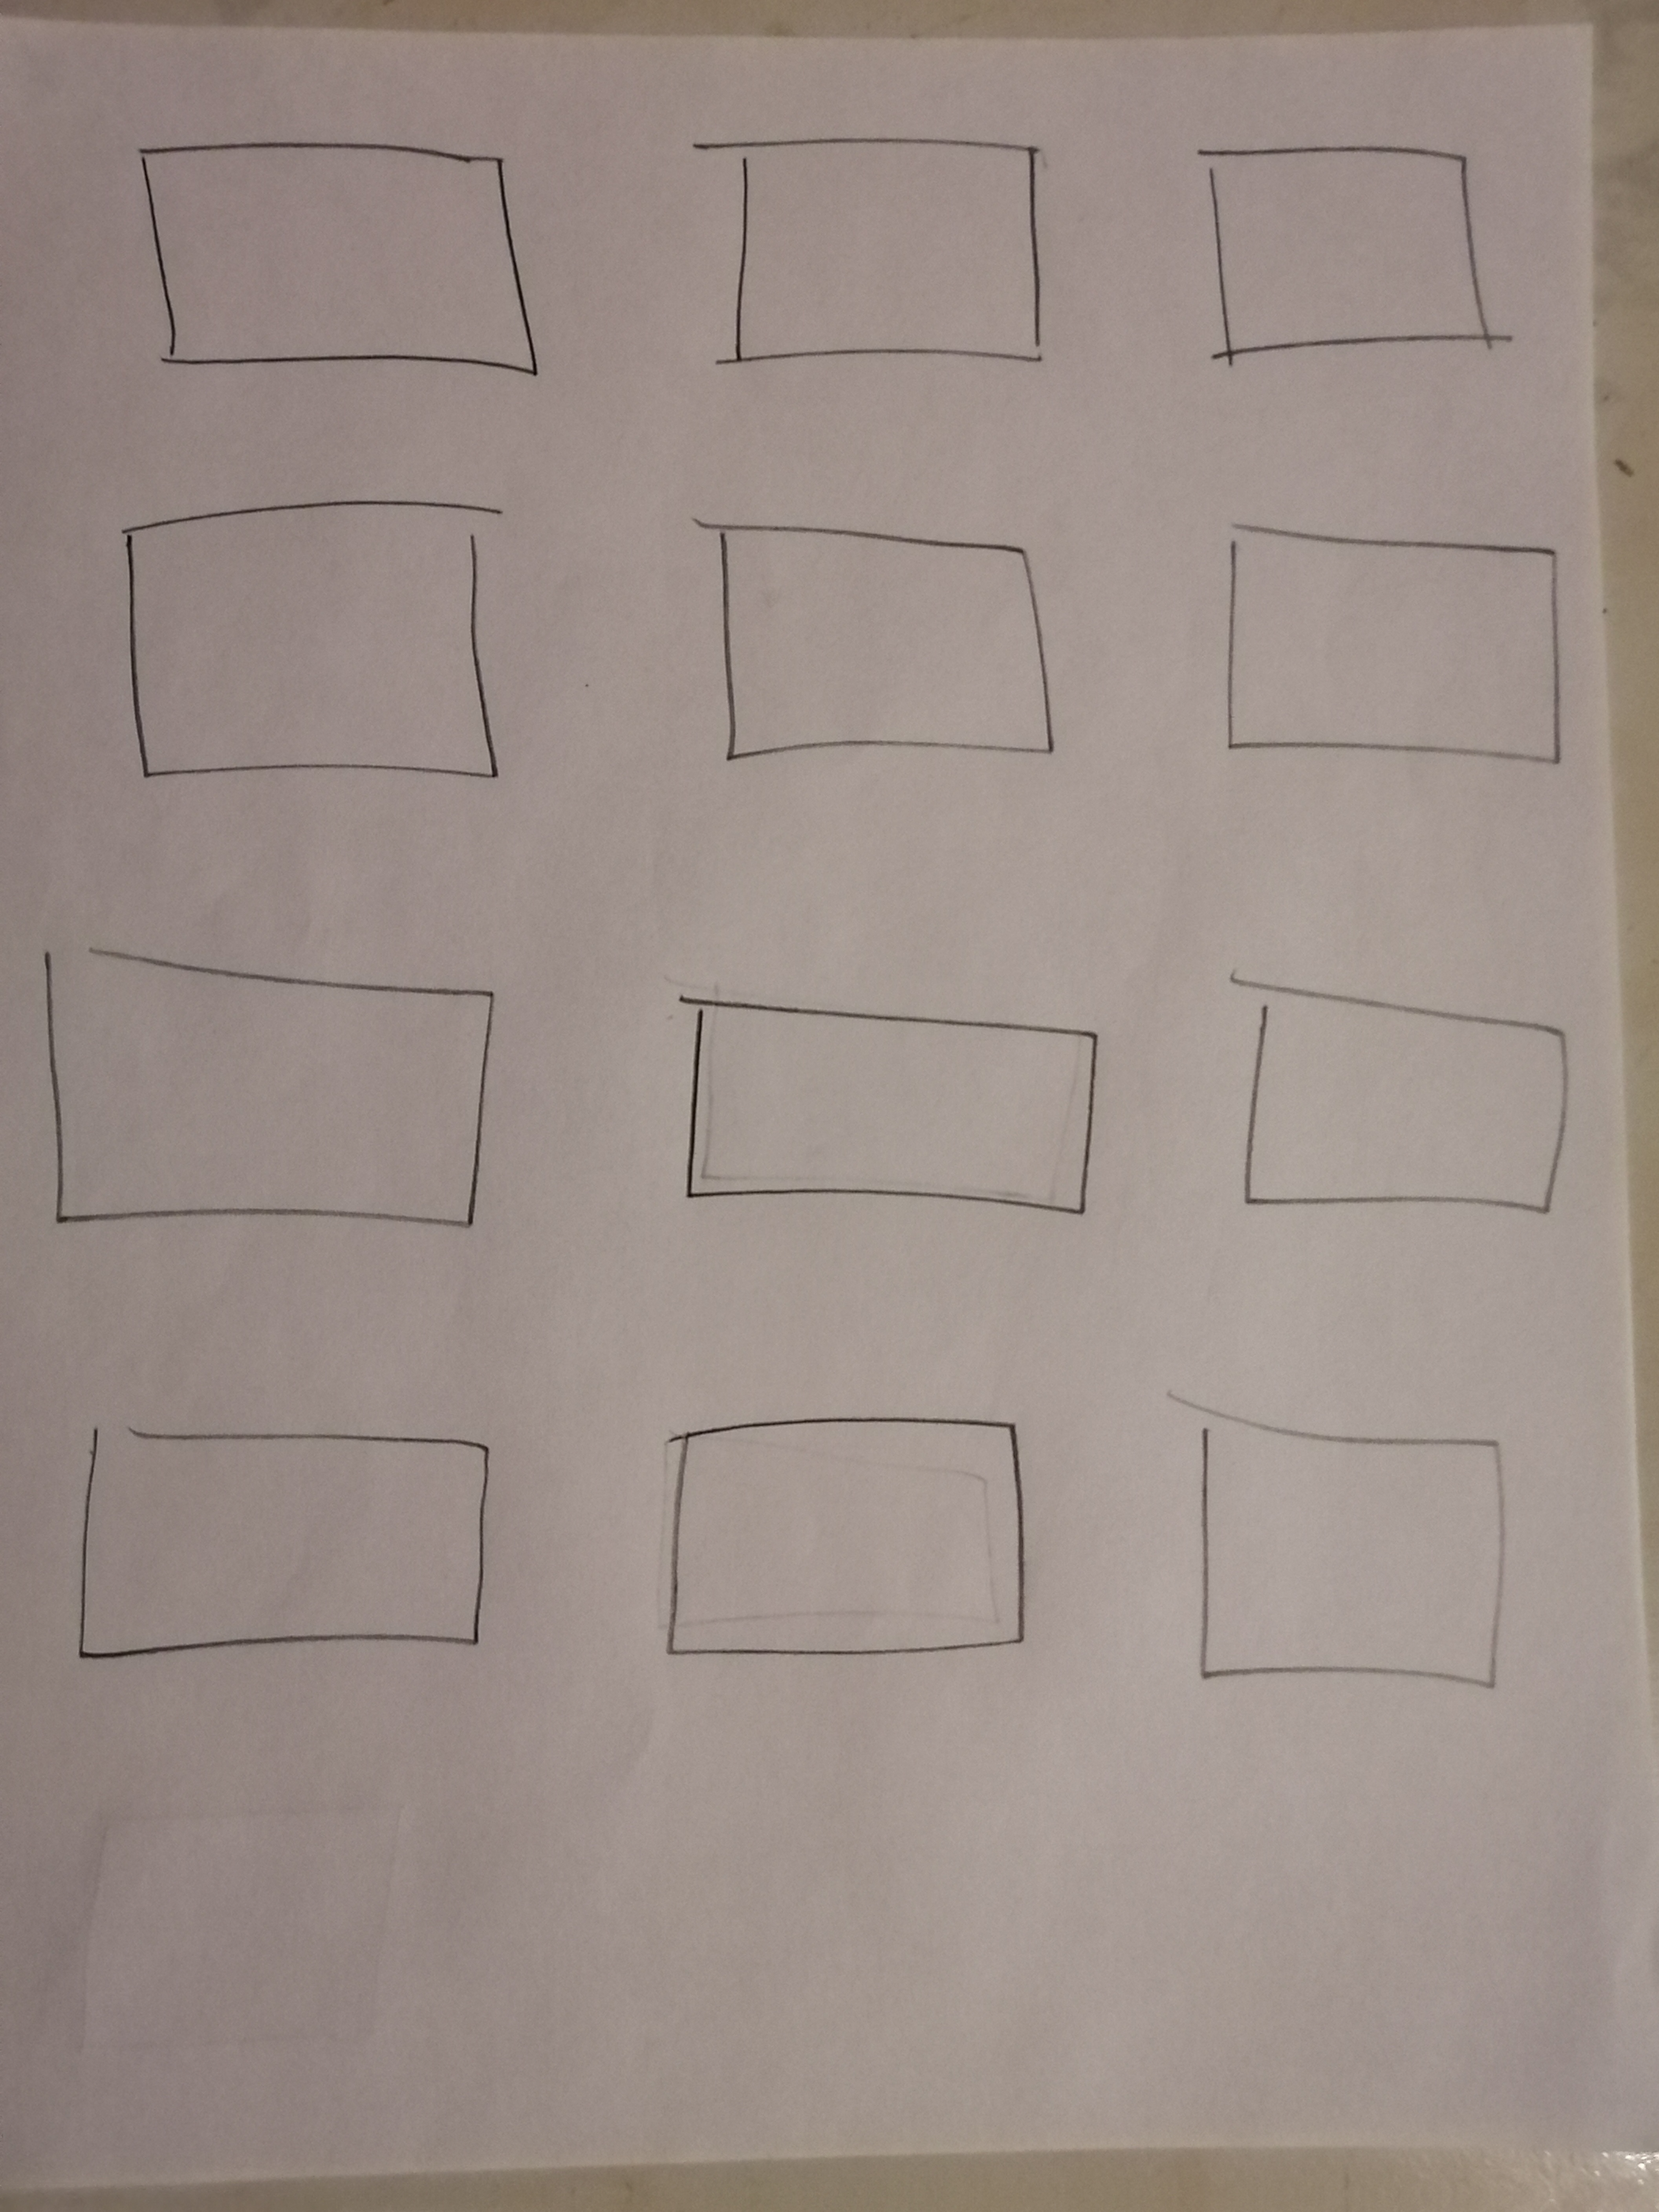process: (21, 906, 535, 1273), (38, 1371, 521, 1735), (1134, 1348, 1549, 1759), (89, 460, 552, 820), (82, 106, 582, 423), (648, 481, 1096, 817), (648, 956, 1138, 1252), (1192, 484, 1588, 817), (1206, 942, 1600, 1270), (641, 1392, 1056, 1691), (667, 99, 1077, 399), (1164, 113, 1546, 399)
